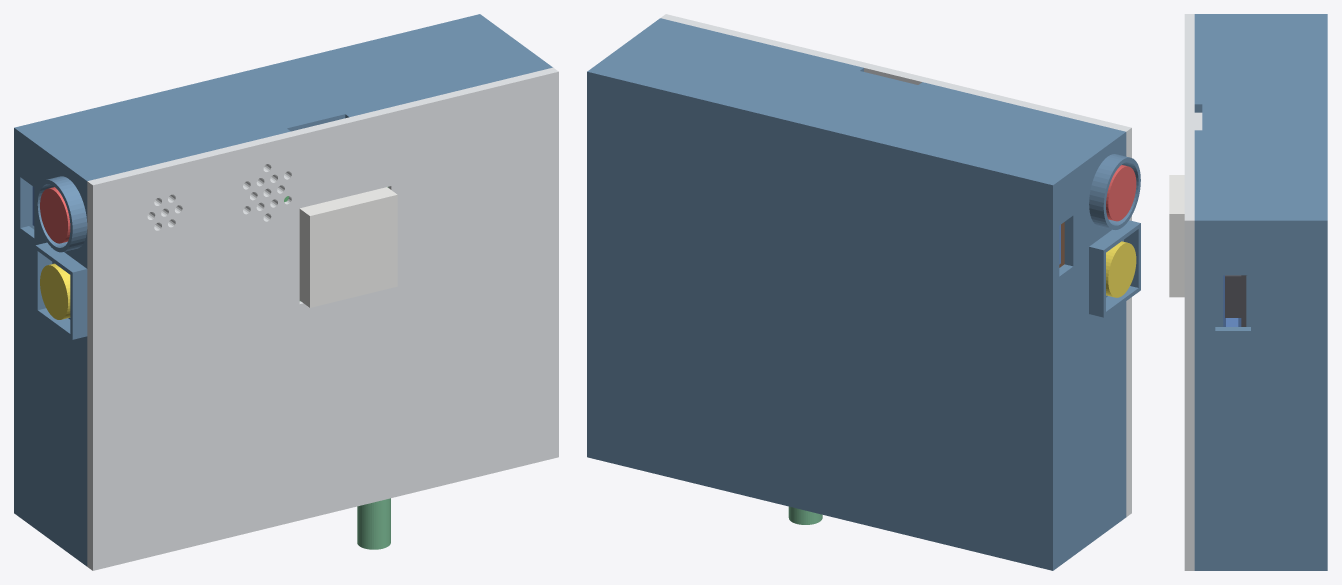
The model's file is _preview.glb.
The picture shows the model from 3 angles, left to right: view 1: azimuth 30°, elevation 25°; view 2: azimuth 150°, elevation 25°; view 3: azimuth 270°, elevation 25°; orthographic projection. The views are drawn at different scales.
Parts seen in each view (by area): view 1: lid, base, lid|GPS ceramic, part|Impact threshold knob (B50K), part|Yellow button (Cancel), part|Red button (SOS); view 2: base, lid, part|Yellow button (Cancel), part|Red button (SOS); view 3: base, lid, lid|GPS ceramic, part|ESP32-C3.
Boxes of the visible parts, x1,y1,x2,y2 form: lid: (87,67,558,570); base: (14,14,552,566); lid|GPS ceramic: (299,187,397,307); part|Impact threshold knob (B50K): (357,498,390,549); part|Yellow button (Cancel): (40,263,70,319); part|Red button (SOS): (40,187,70,243); base: (587,18,1140,570); lid: (660,14,1131,516); part|Yellow button (Cancel): (1106,241,1136,297); part|Red button (SOS): (1106,165,1136,221); base: (1194,14,1327,570); lid: (1184,14,1202,570); lid|GPS ceramic: (1169,175,1184,297); part|ESP32-C3: (1225,275,1246,326).
Bounding box in the file's own units: 98.6 × 87.8 × 31.
